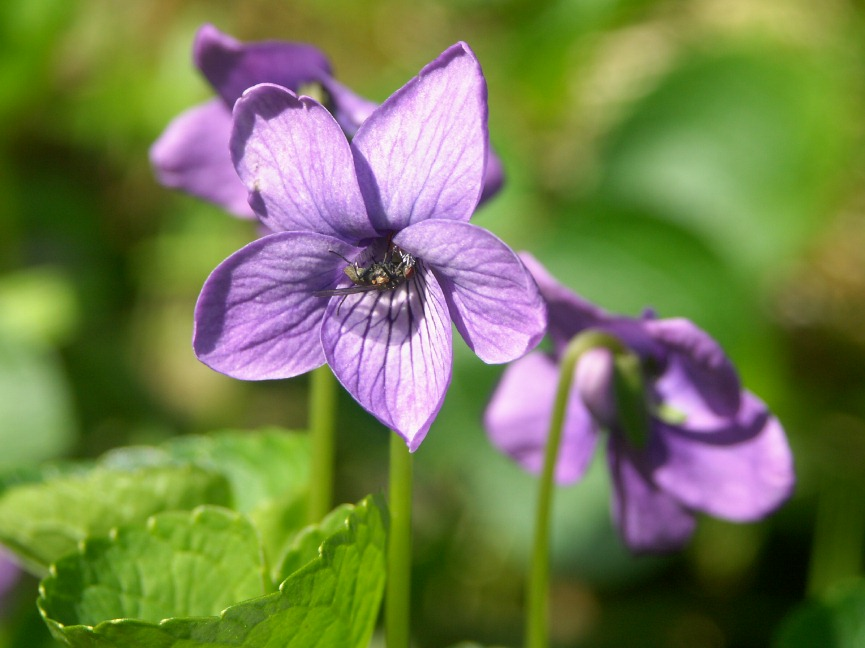violet: (192, 82, 556, 424), (513, 242, 797, 577)
